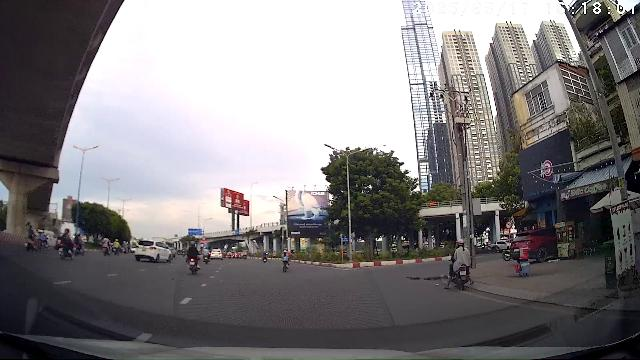123a-cam-re-trai: (505, 221, 513, 229)
